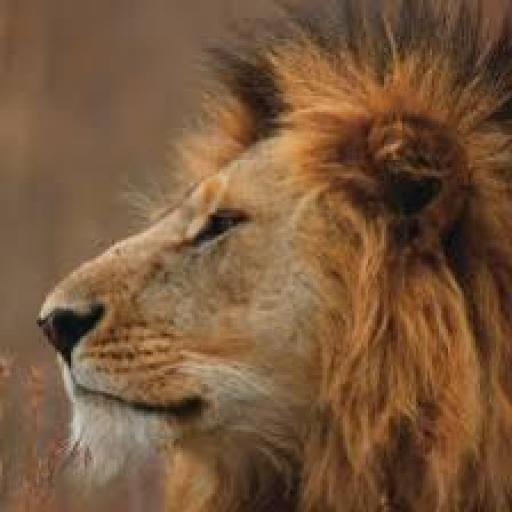lion: (32, 13, 496, 512)
